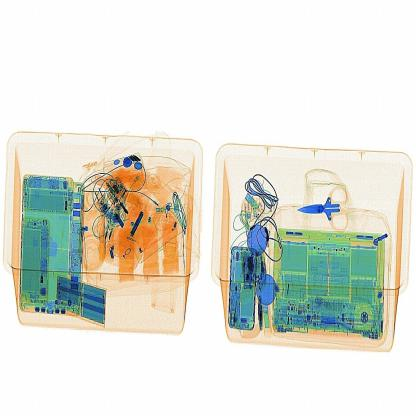gun: (297, 192, 349, 232)
